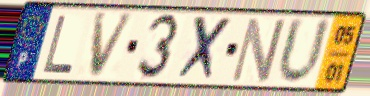3: (134, 12, 184, 83)
L: (41, 13, 77, 76)
N: (227, 15, 289, 85)
U: (275, 15, 334, 88)
V: (88, 11, 138, 81)
X: (172, 13, 236, 84)
